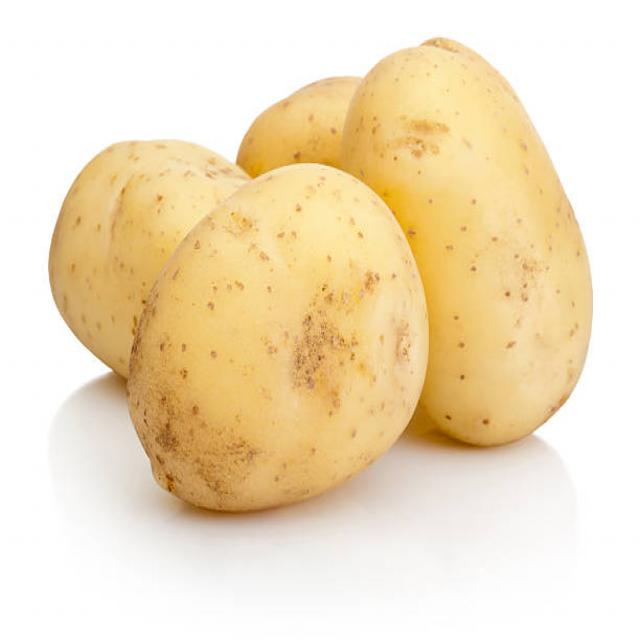potato: (127, 164, 418, 513), (424, 30, 598, 456), (48, 129, 168, 334)
